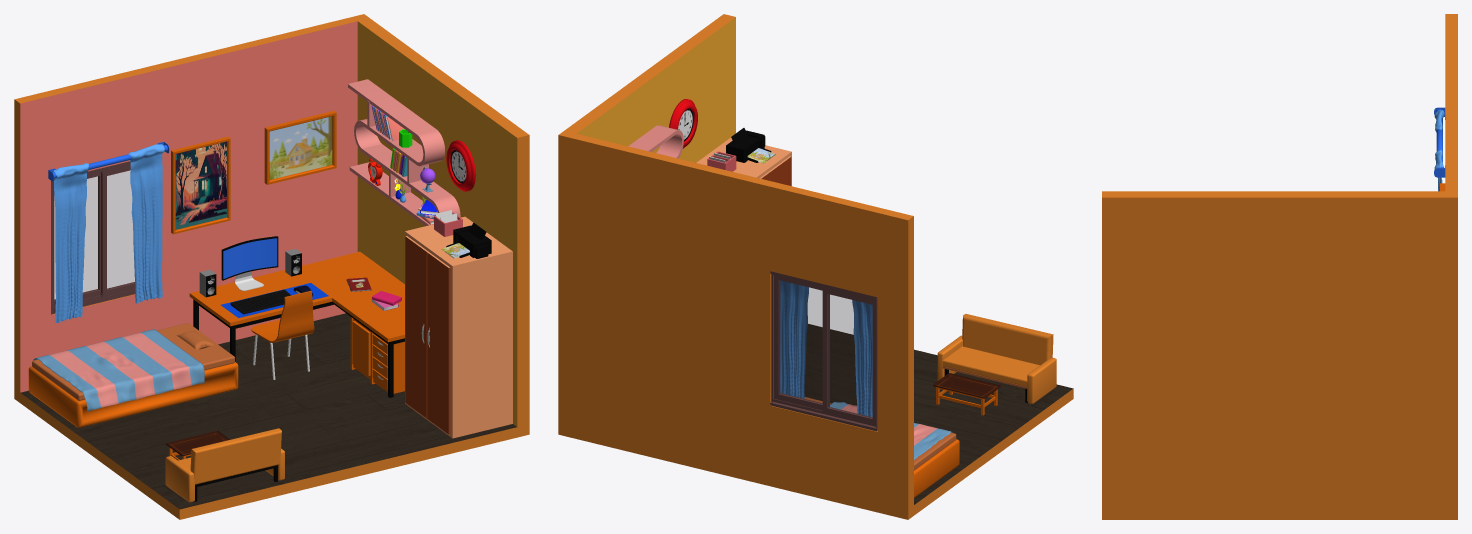
File: interior_design.glb
The picture shows the model from 3 angles, left to right: view 1: azimuth 30°, elevation 25°; view 2: azimuth 150°, elevation 25°; view 3: azimuth 270°, elevation 25°; orthographic projection. The views are drawn at different scales.
Visible parts, largest first — view 1: Cube_65, Cube.003_0, Plane.002_67, Cube.002_15, Plane.001_8, Cube.005_32, Cube.006_27, Cube.001_6, Cube.025_28, Window.R_69, Cube.007_72, Cube.015_16 (+12 smaller); view 2: Cube_65, Window.L_68, Window.R_69, Plane.002_67, Cube.007_72, Cube.011_76, WindowFrame_70, Cube.003_0, Table_77, Cube.010_75, Cube.001_6, Cube.005_32 (+3 smaller); view 3: Cube_65.
Part boxes in pixels (left/top/right/bottom): Cube_65: left=14, top=14, right=529, bottom=519; Cube.003_0: left=405, top=216, right=512, bottom=438; Plane.002_67: left=52, top=144, right=164, bottom=323; Cube.002_15: left=189, top=251, right=404, bottom=397; Plane.001_8: left=33, top=329, right=204, bottom=411; Cube.005_32: left=348, top=79, right=460, bottom=225; Cube.006_27: left=171, top=136, right=230, bottom=234; Cube.001_6: left=28, top=362, right=238, bottom=427; Cube.025_28: left=264, top=111, right=336, bottom=184; Window.R_69: left=100, top=164, right=135, bottom=297; Cube.007_72: left=190, top=428, right=281, bottom=484; Cube.015_16: left=352, top=319, right=404, bottom=393; Cube_65: left=558, top=14, right=1073, bottom=519; Window.L_68: left=822, top=286, right=875, bottom=426; Window.R_69: left=775, top=276, right=829, bottom=410; Plane.002_67: left=780, top=280, right=872, bottom=417; Cube.007_72: left=962, top=314, right=1053, bottom=365; Cube.011_76: left=942, top=346, right=1039, bottom=386; WindowFrame_70: left=770, top=271, right=877, bottom=431; Cube.003_0: left=696, top=137, right=791, bottom=186; Table_77: left=933, top=373, right=1000, bottom=415; Cube.010_75: left=937, top=335, right=1056, bottom=403; Cube.001_6: left=914, top=439, right=959, bottom=497; Cube.005_32: left=628, top=125, right=683, bottom=158; Cube_65: left=1102, top=14, right=1457, bottom=519.
Size of the model in its own units: 2.44 by 2 by 2.
Materials: 63 (14 with a texture image).
